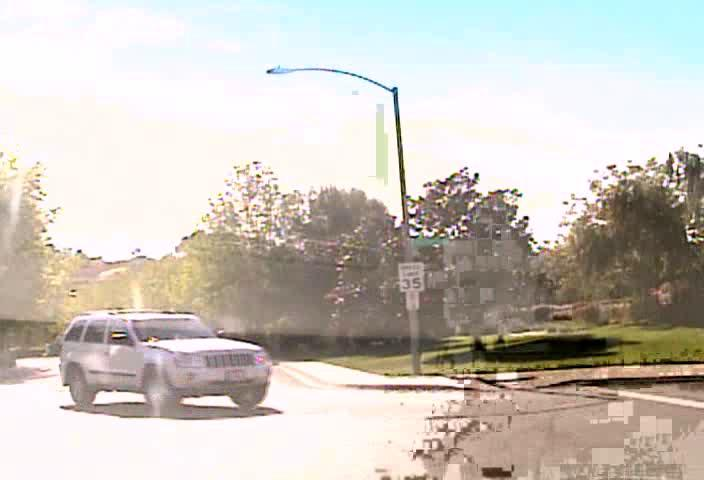speedLimit35: (397, 261, 426, 292)
